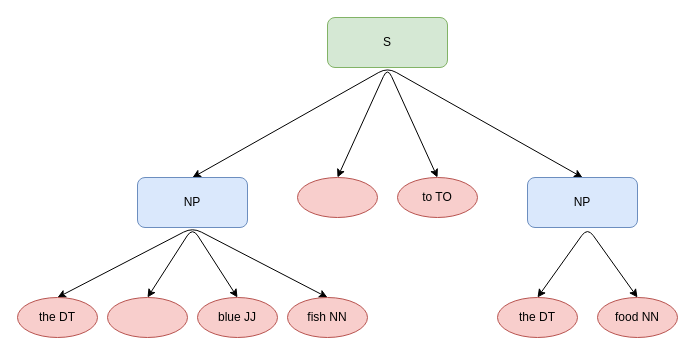
This 695x363 diagram has some shape labels left out. Each missing label, with the box of its shape:
little JJ: (106, 296, 188, 338)
swam VBD: (296, 176, 378, 218)
